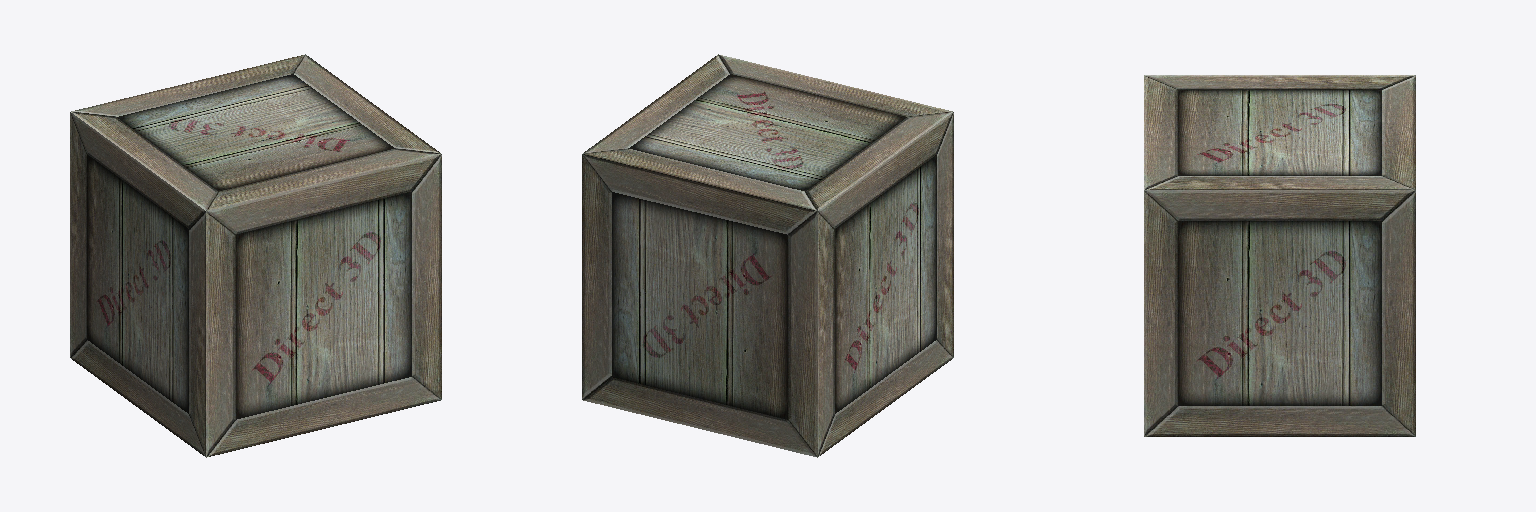
The picture shows the model from 3 angles: view 1: azimuth 30°, elevation 25°; view 2: azimuth 150°, elevation 25°; view 3: azimuth 270°, elevation 25°; orthographic projection.
Visible parts, largest first — view 1: pCube1; view 2: pCube1; view 3: pCube1.
Part boxes in pixels (left/top/right/bottom): pCube1: left=70, top=54, right=441, bottom=457; pCube1: left=582, top=54, right=953, bottom=457; pCube1: left=1144, top=75, right=1415, bottom=436.
Bounding box in the file's own units: 2.66 × 2.66 × 2.66.
Materials: 1 (1 with a texture image).